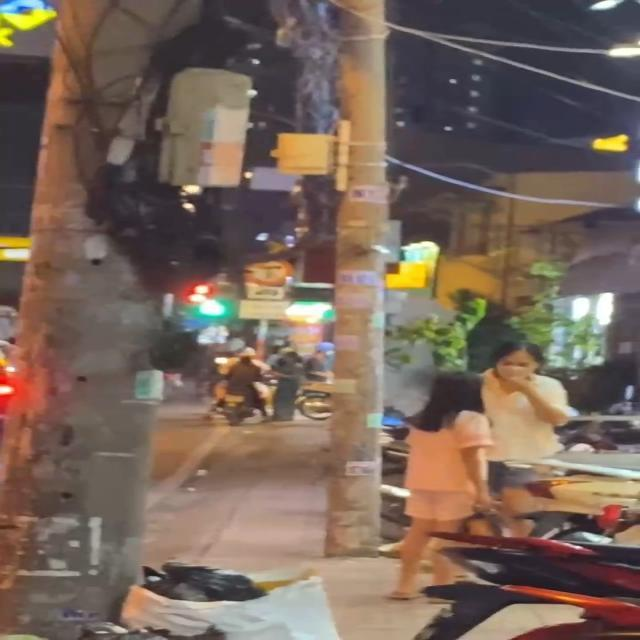137-cam-re-trai-va-re-phai: (242, 254, 292, 286)
